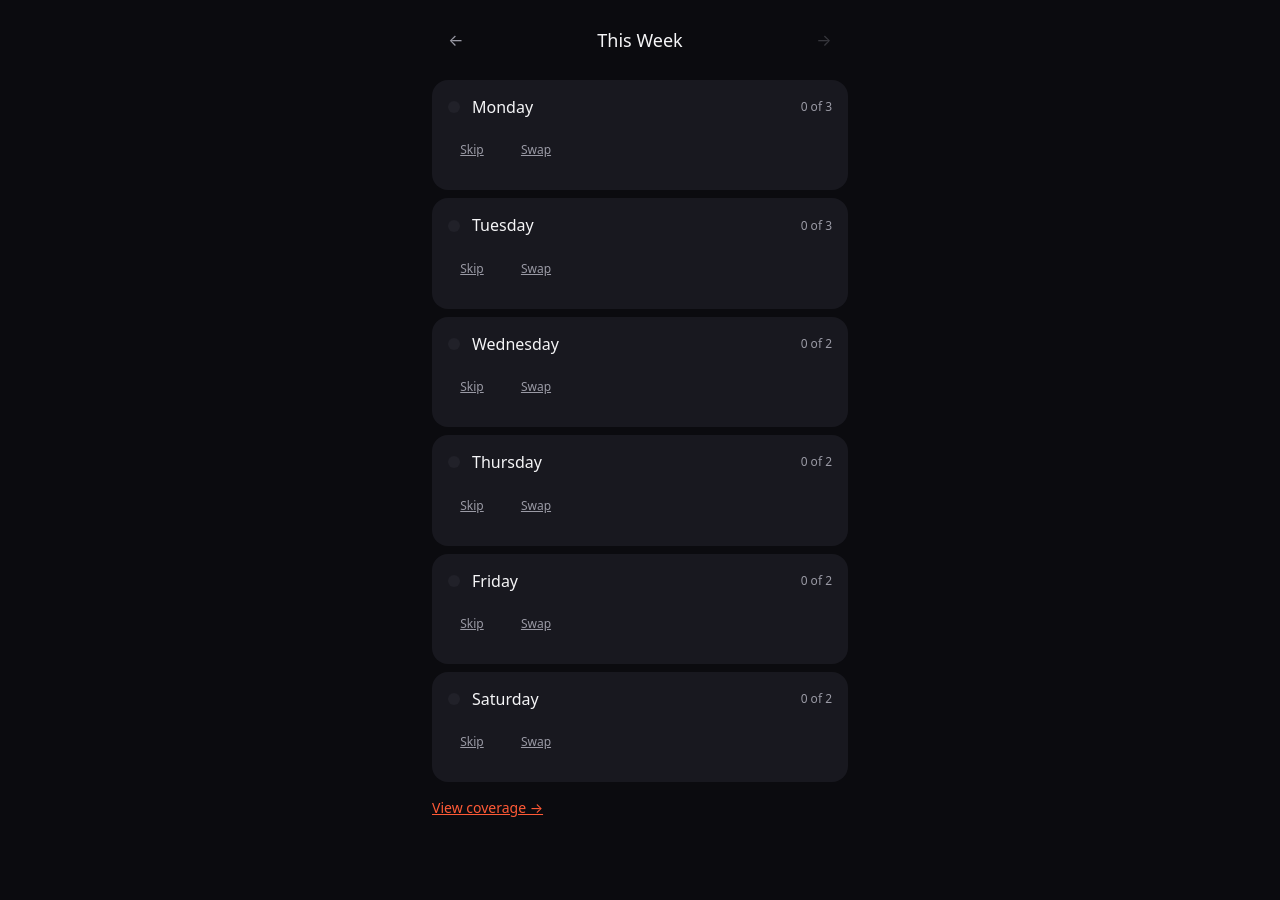
Week Plan screen › "Choose a different day" from the confirm step goes back to the day list
expect the text "Monday" is shown: met, box [448, 96, 533, 118]
Click the button "Swap" below "Monday": (536, 150) [512, 126, 560, 174]
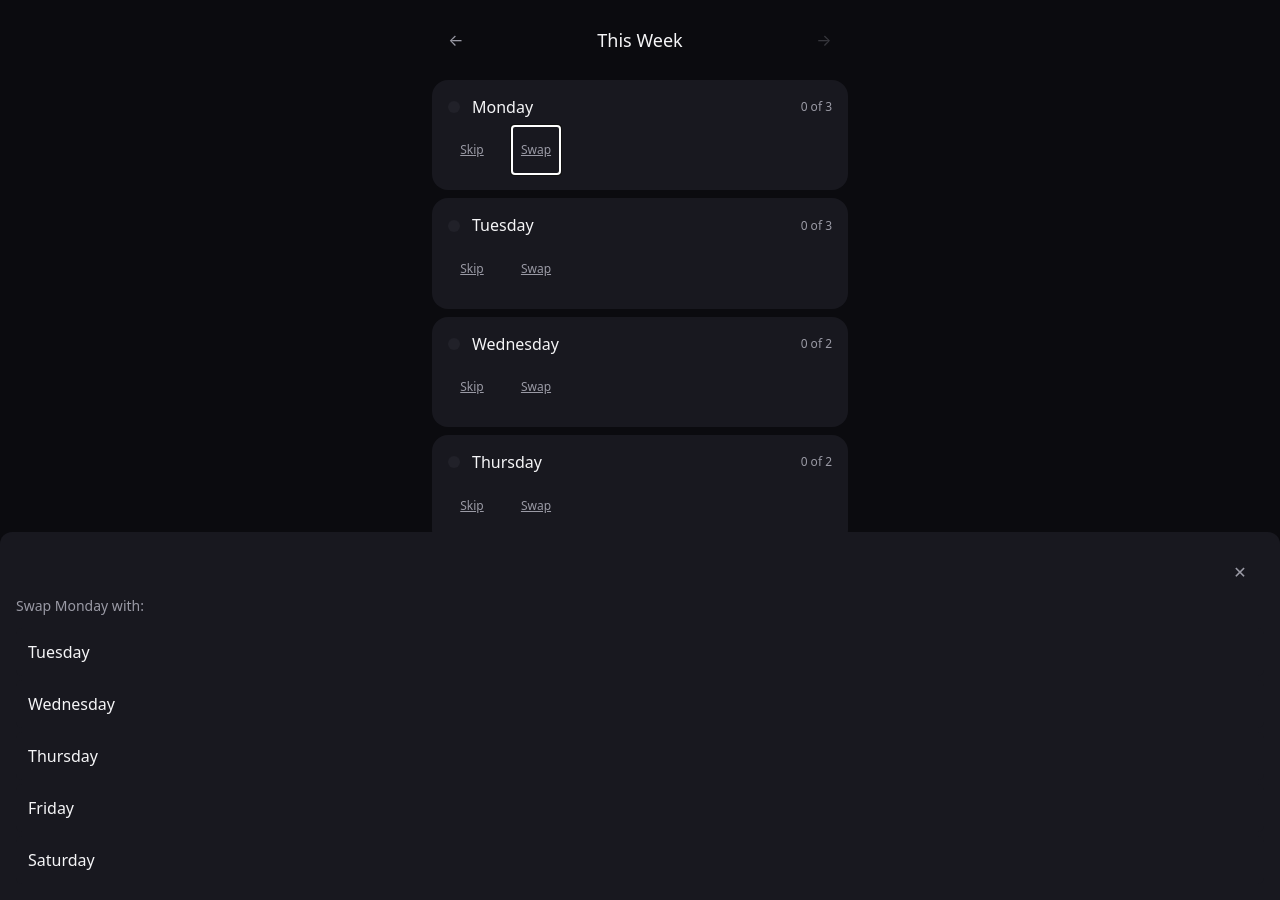
Click the button "Tuesday": (59, 652) [16, 628, 1264, 676]
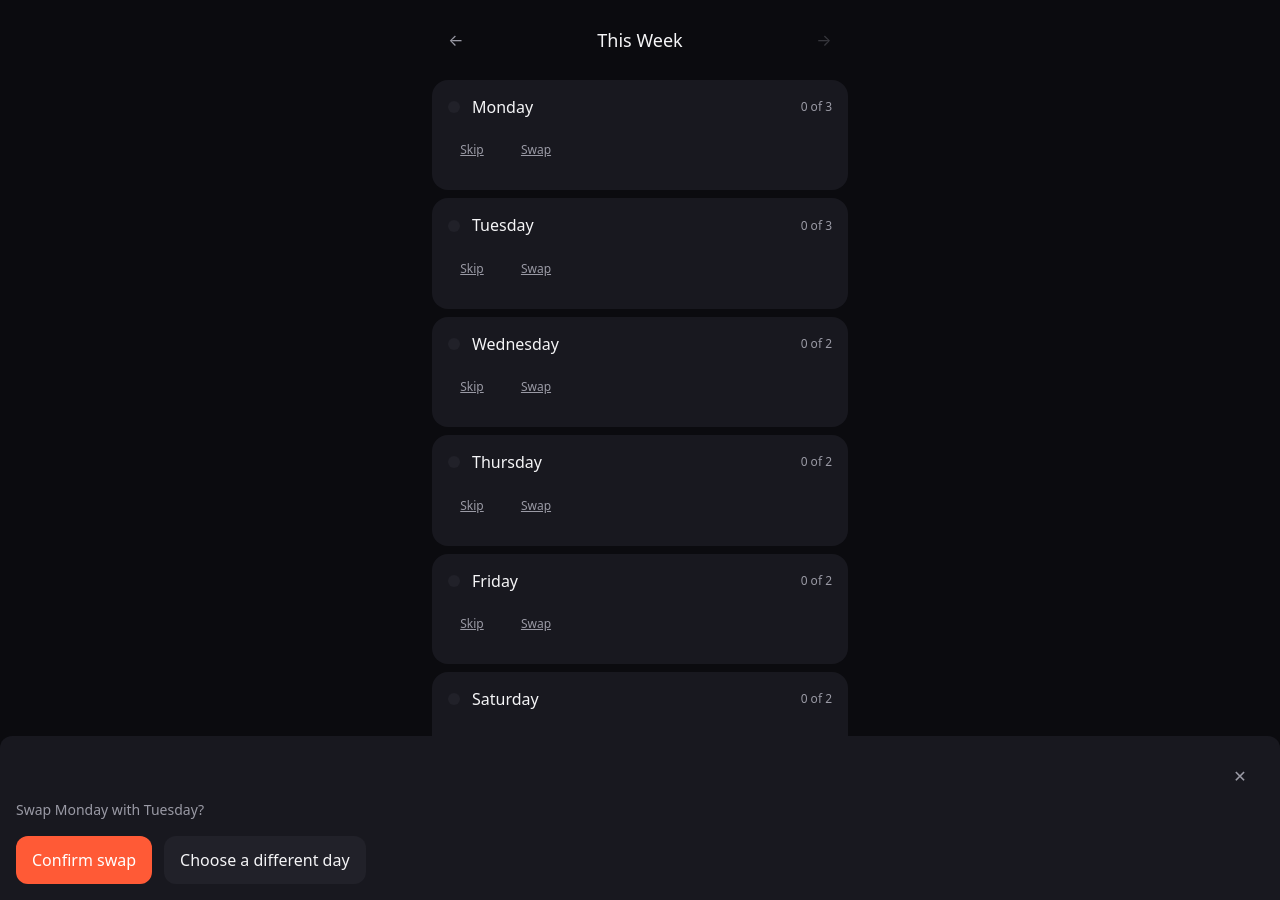
expect the heading "Swap Monday with Tuesday?" is shown: met, box [16, 800, 204, 819]
Click the button "Choose a different day": (265, 860) [164, 836, 366, 884]
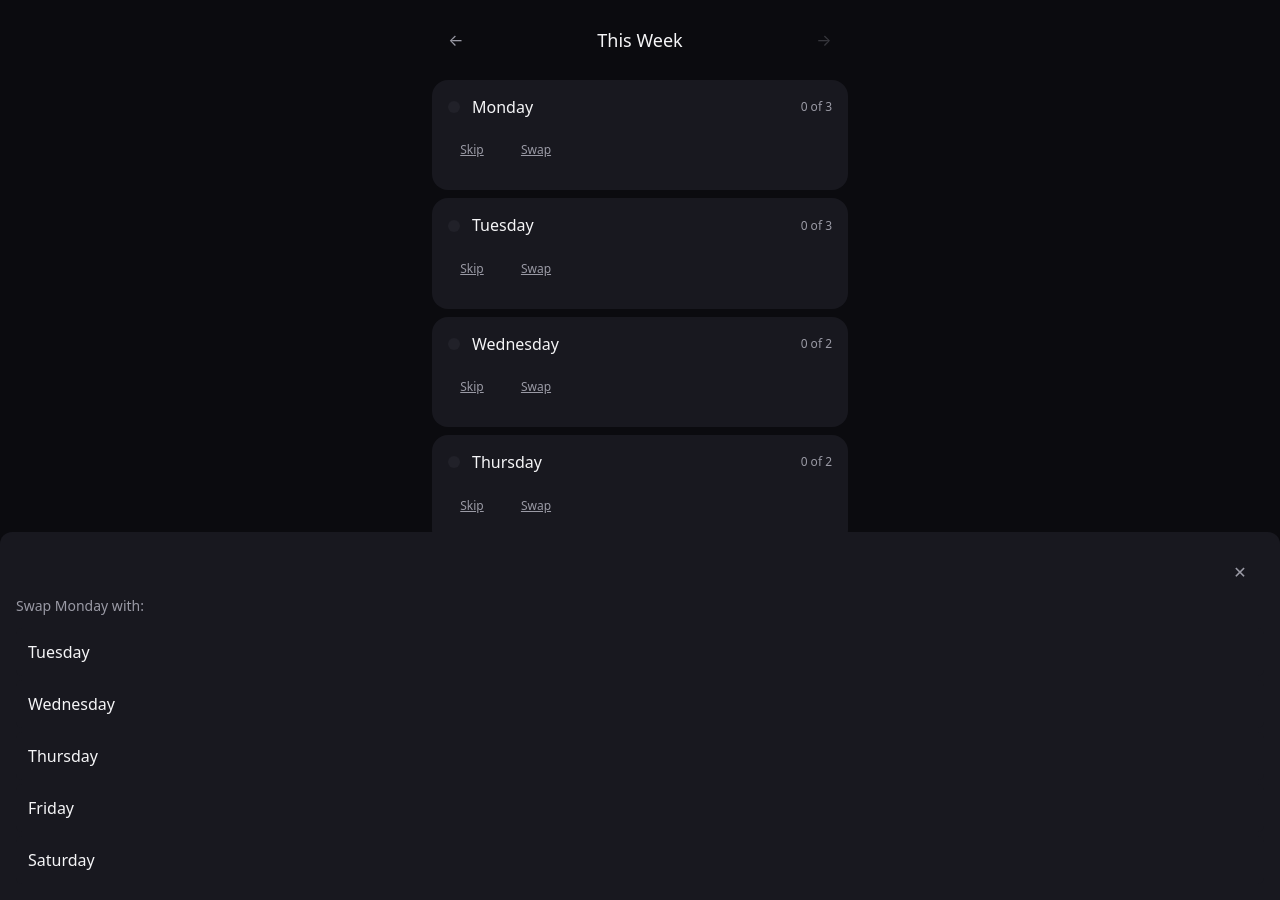
expect the heading "Swap Monday with:" is shown: met, box [16, 596, 144, 615]
